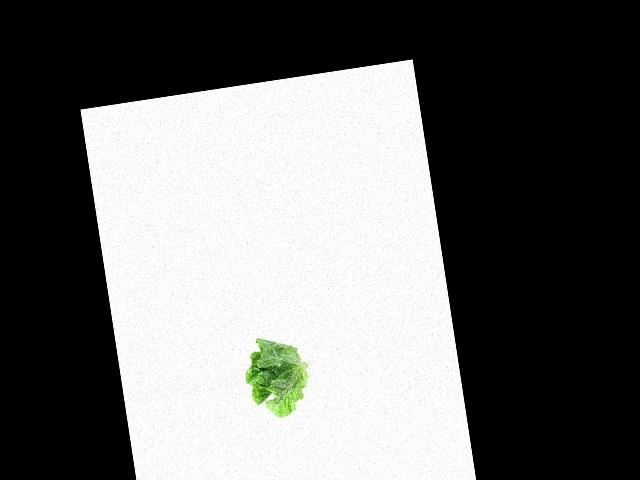lettuce: (240, 330, 312, 421)
